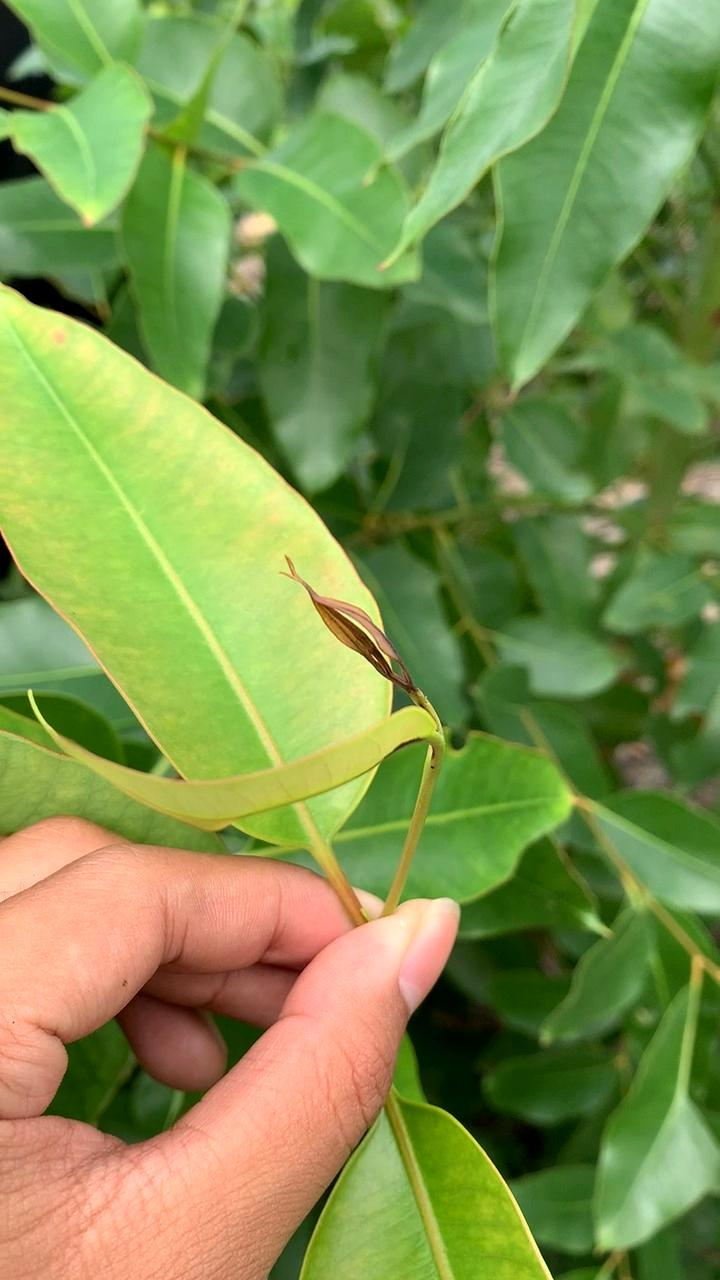Helopeltis-Withered Sprout: (280, 558, 437, 739)
